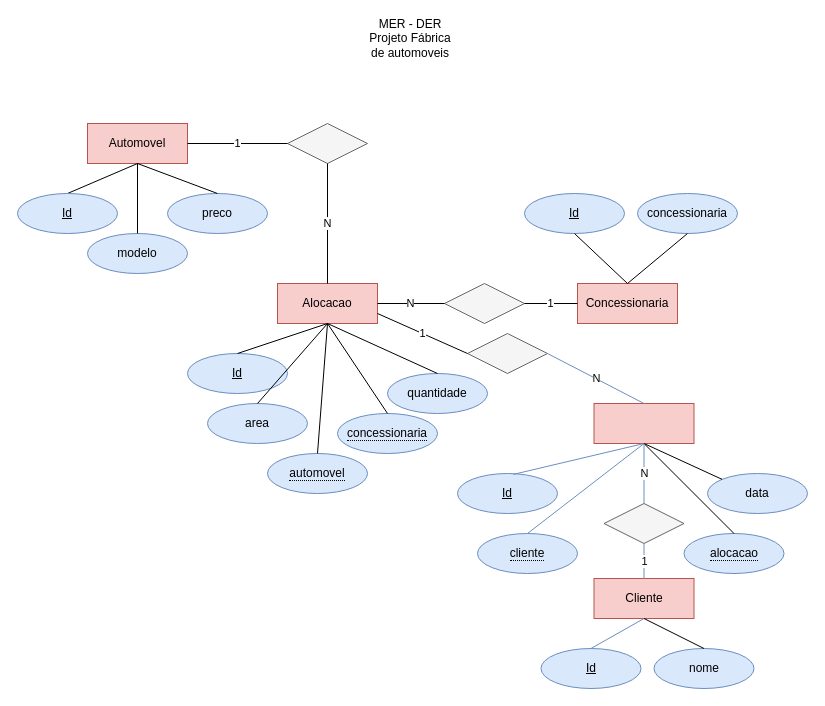
The diagram is 825 pixels wide and 706 high, and some of its shapes have lost their labels. Here are the shapes that lost their labels. From the top down, the centre of each, then its label:
At point 327,143: "possui".
At point 484,303: "contem".
At point 507,353: "faz".
At point 643,423: "Venda".
At point 643,523: "compra".
